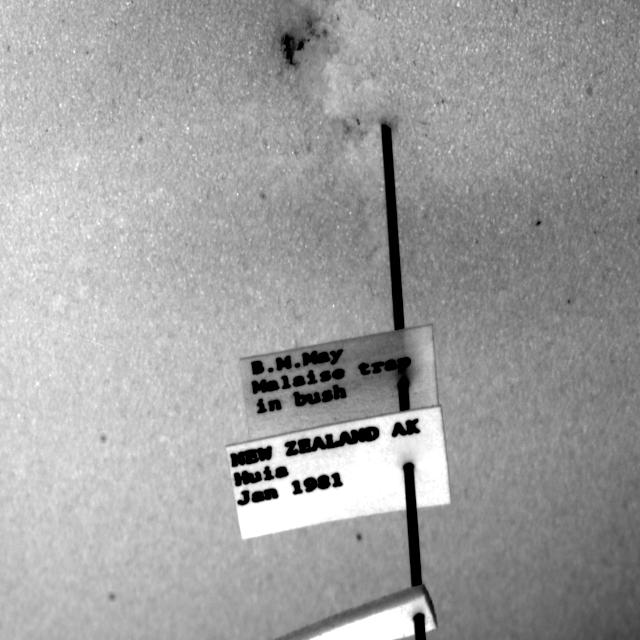typed_label: (226, 407, 450, 538), (240, 326, 439, 439)
